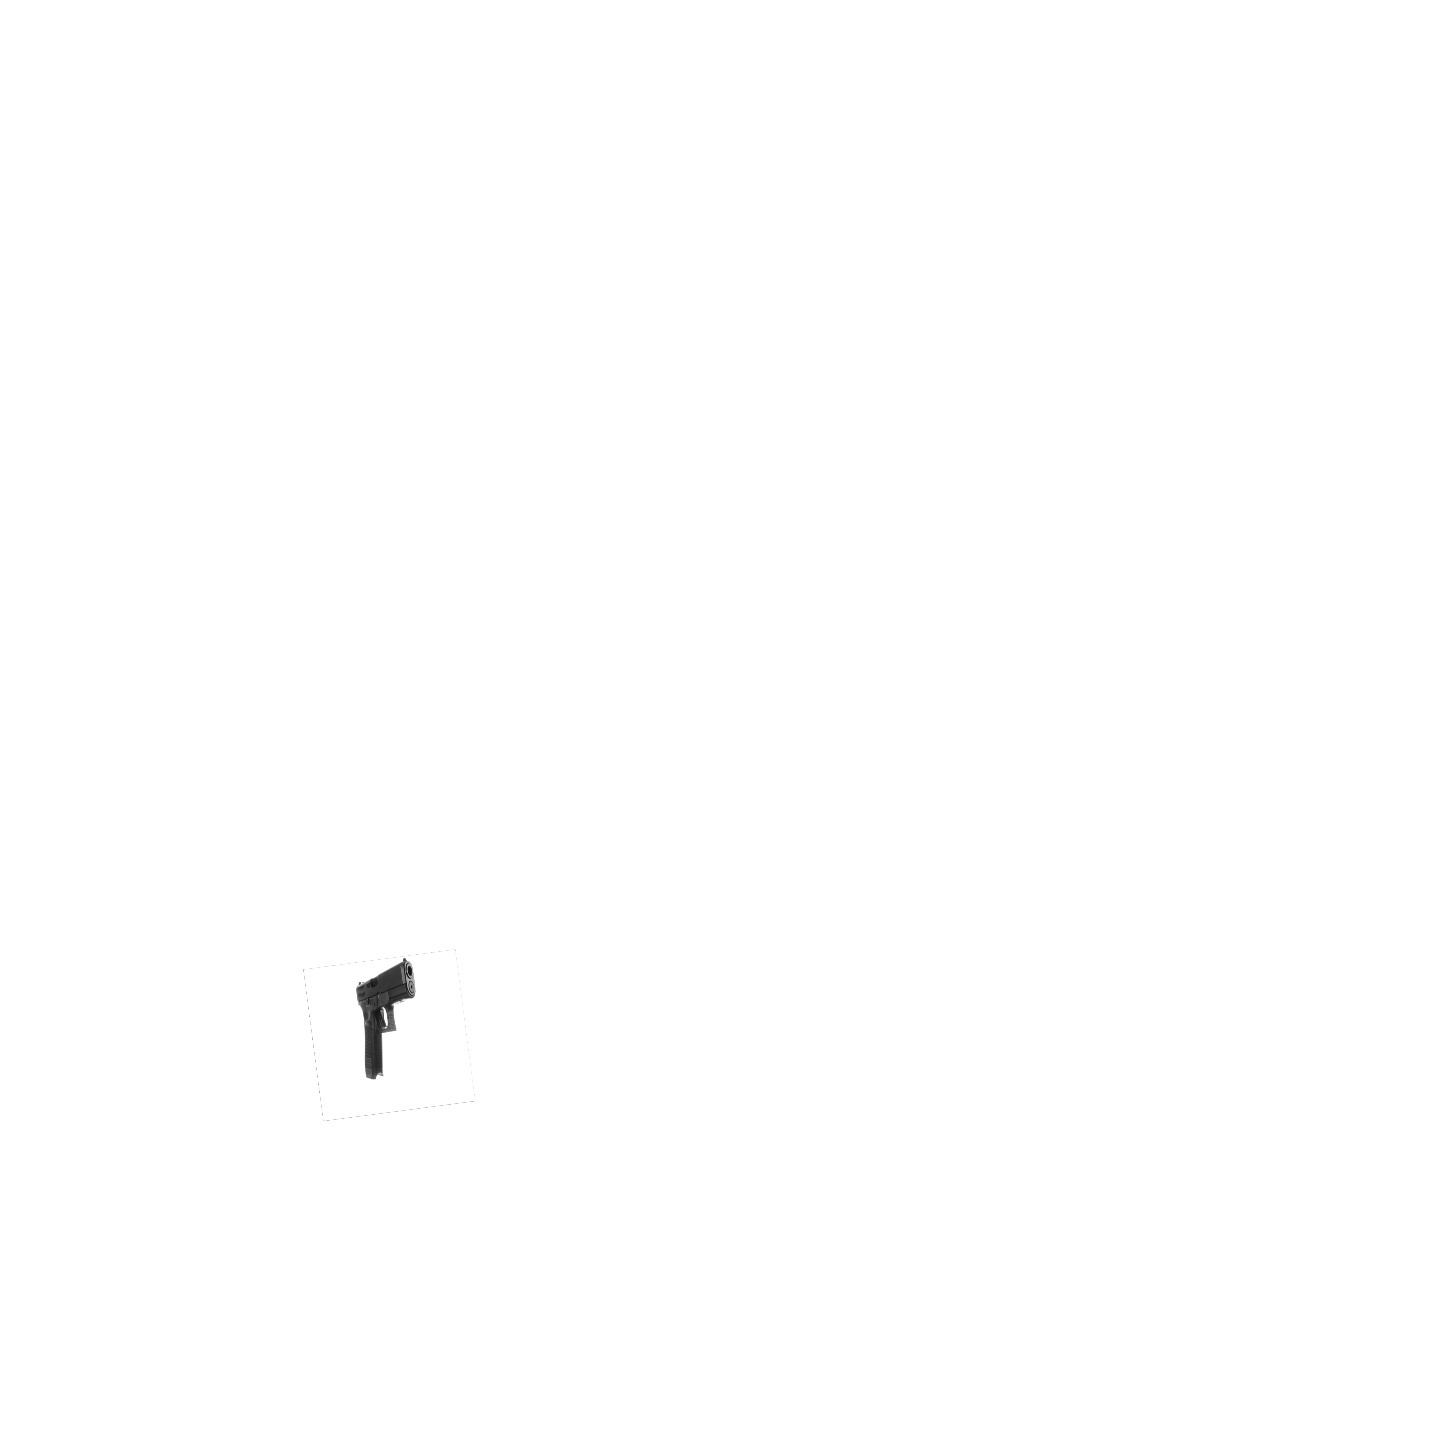gun: (350, 947, 432, 1086)
